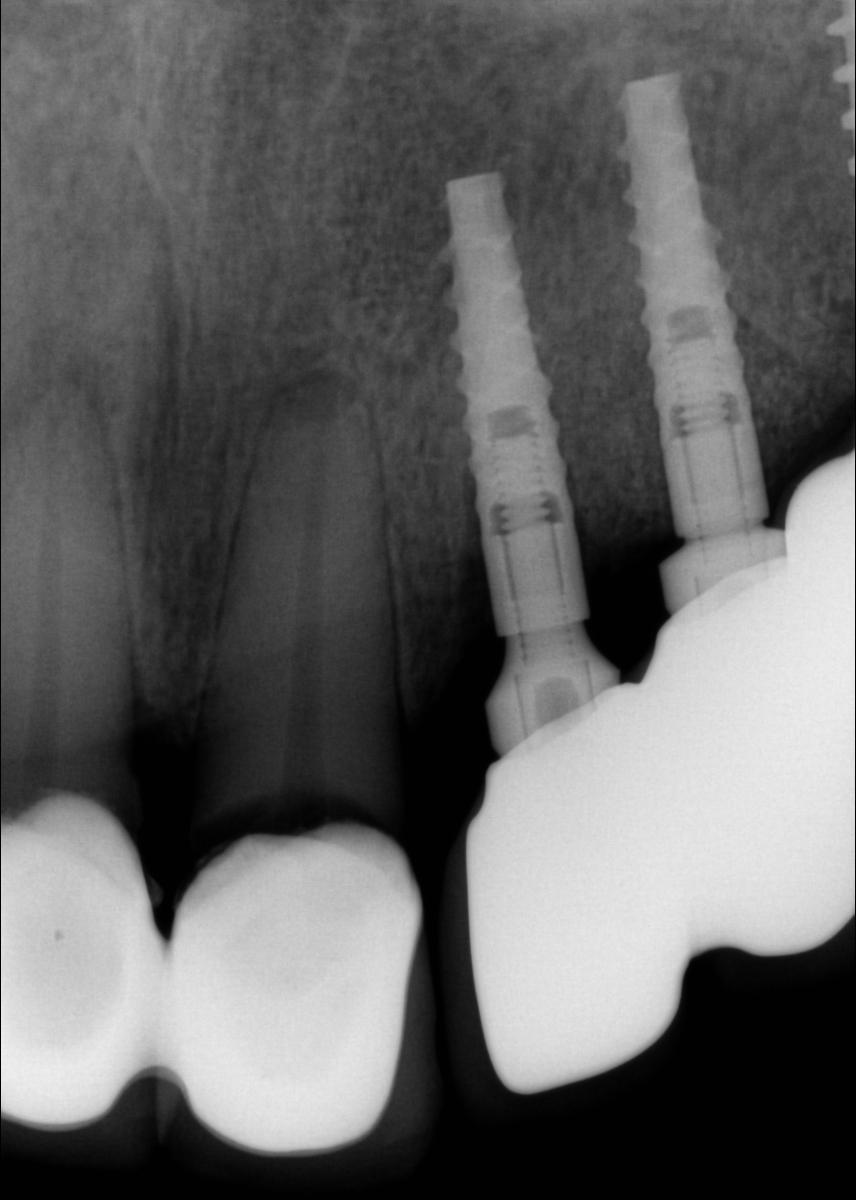Furcation Involvement: (127, 228, 354, 715), (0, 318, 125, 480)
